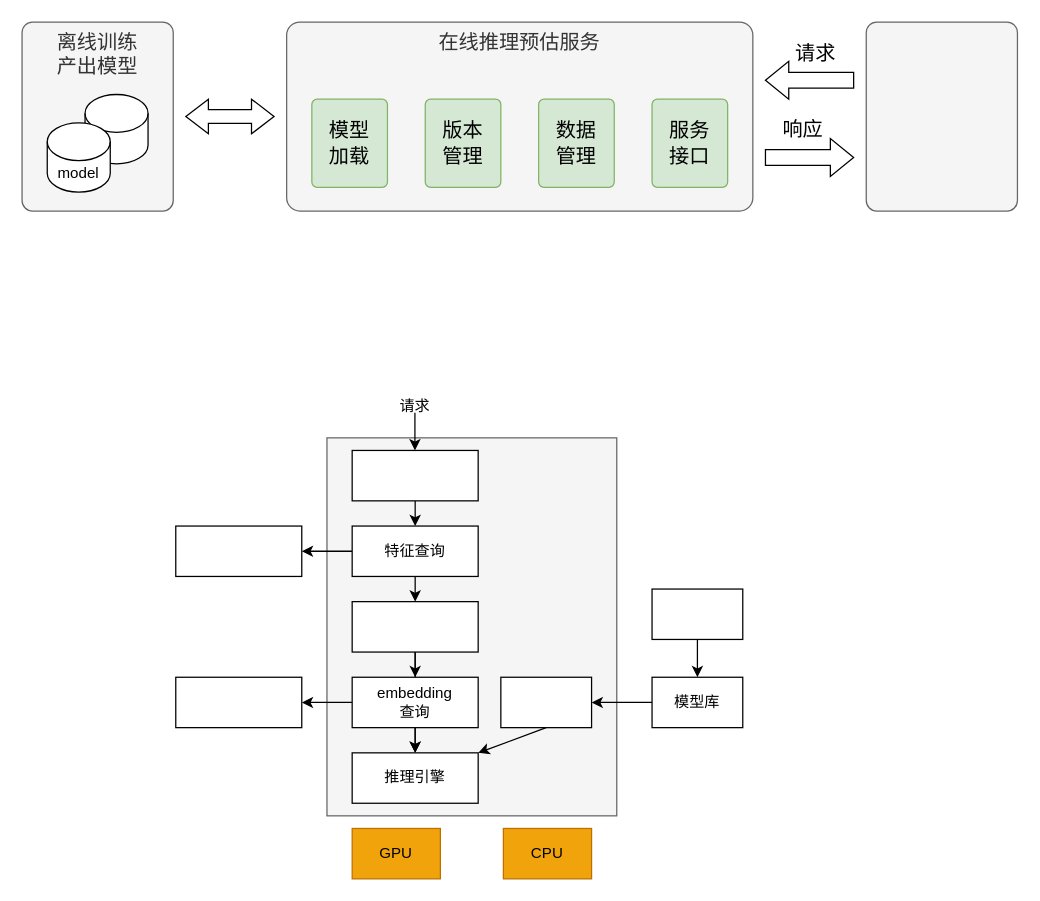
Image size: 1040x901. Some labels were removed from this diagram. Each missing label, with the centre of its shape:
"OnlinePs" belongs at pixel 238 702.
"User/Item FS" belongs at pixel 238 550.
"客户端 （brpc/http）" belongs at pixel 941 116.
"模型管理" belongs at pixel 546 702.
"模型训练" belongs at pixel 697 613.
"特征抽取" belongs at pixel 414 626.
"请求响应与处理" belongs at pixel 414 475.
